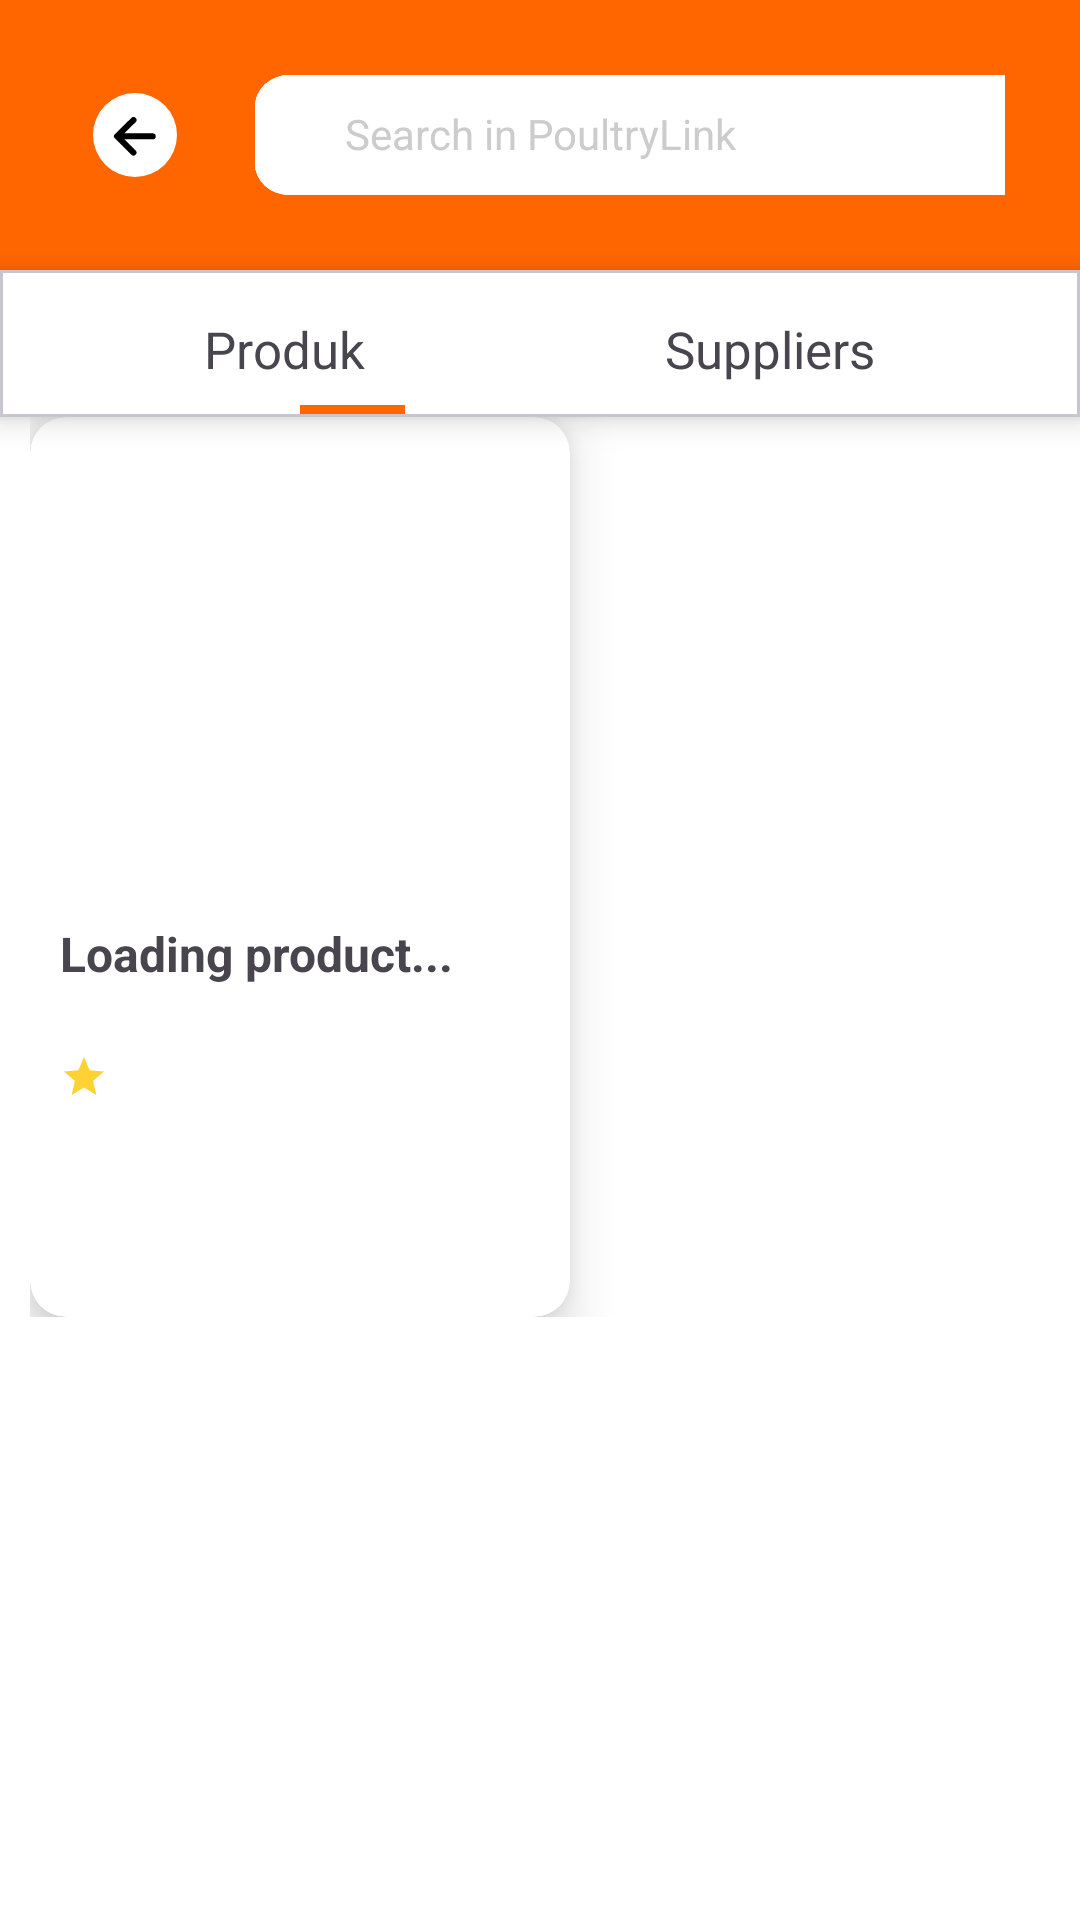

Named icons in this screenshot (1080px×1920px) and their centers, (x,y):
Back: (135,135)
star: (84,1076)
